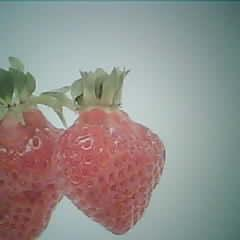straw-ripe: (53, 110, 165, 238), (0, 104, 65, 240)
